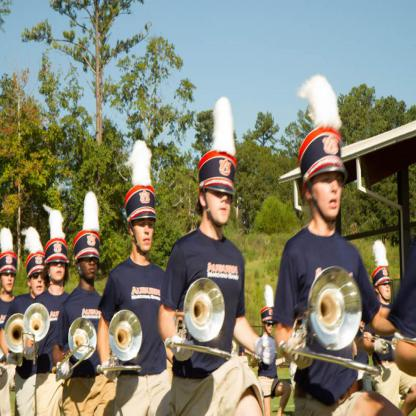face: (313, 166, 344, 217), (207, 177, 232, 224), (134, 211, 154, 251), (81, 248, 99, 279), (31, 266, 47, 296), (51, 256, 67, 281), (2, 264, 16, 291), (379, 277, 392, 299), (266, 320, 274, 334)
